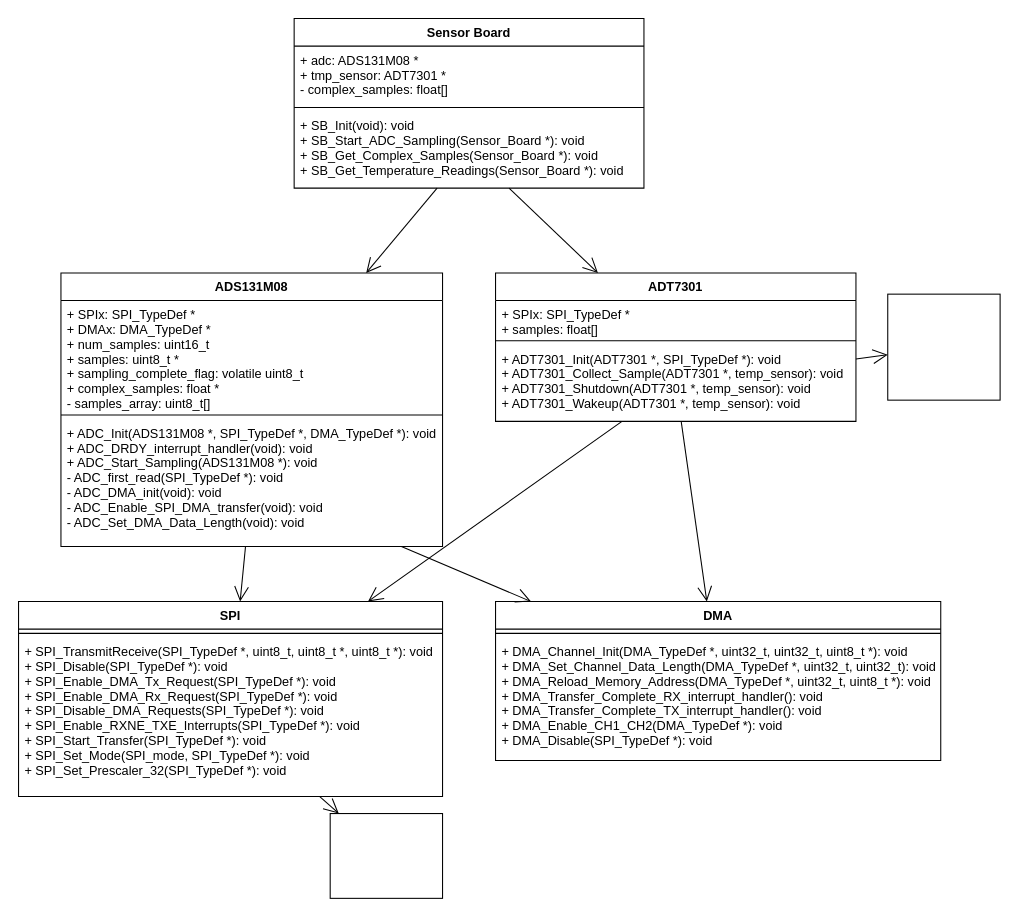
This 1019x917 diagram has some shape labels left out. Each missing label, with the centre of its shape:
<<Enumeration>> SPI_mode + CPOL0_CPHA1 + CPOL1_CPHA1: the point at 386,855
<<Enumeration>> temp_sensor + TEMP1: 0 + TEMP2: 1 + TEMP3: 2: the point at 943,346
